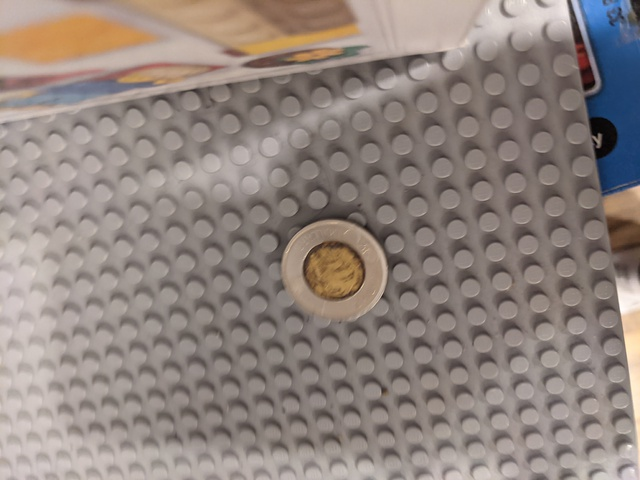twonie: (270, 215, 395, 327)
